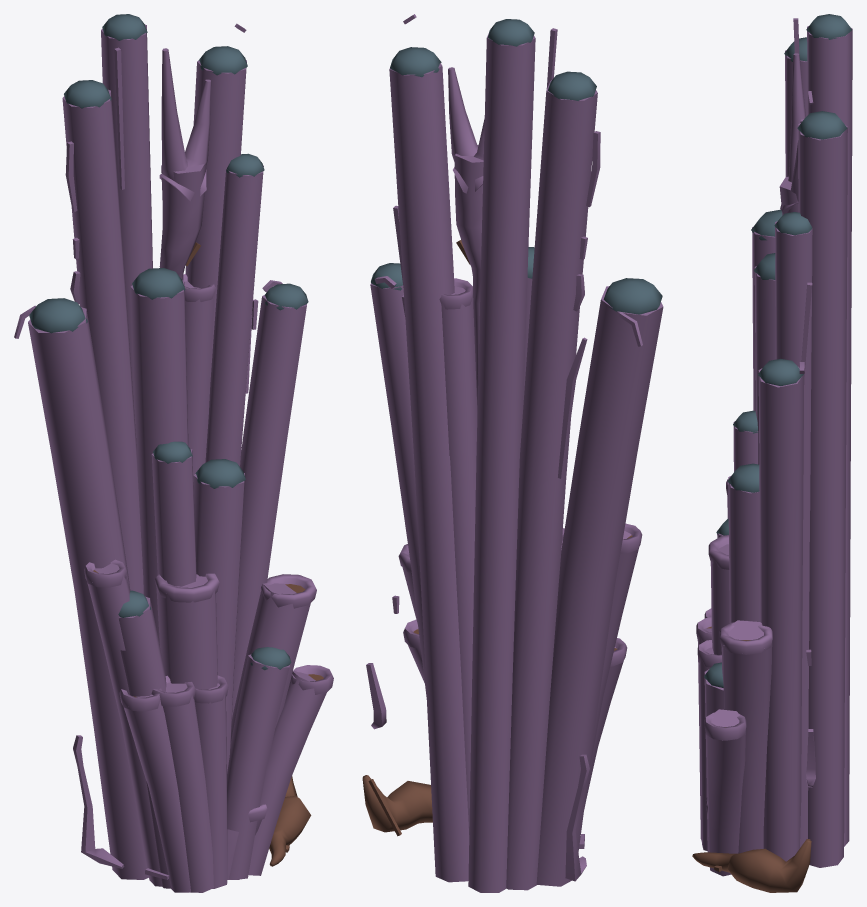
File: slipstack.glb
The picture shows the model from 3 angles, left to right: view 1: azimuth 30°, elevation 25°; view 2: azimuth 150°, elevation 25°; view 3: azimuth 270°, elevation 25°; orthographic projection. The views are drawn at different scales.
Visible parts, largest first — view 1: body; view 2: body; view 3: body.
Boxes of the visible parts, bbox=[...] form: body: bbox=[14, 14, 333, 892]; body: bbox=[362, 14, 663, 892]; body: bbox=[692, 14, 852, 892].
Size of the model in its own units: 2.25 by 6.54 by 1.16.
